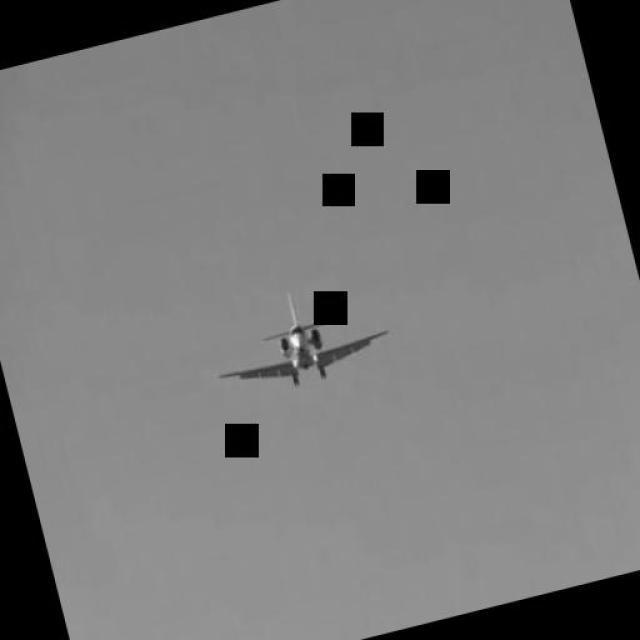aeroplane: (217, 296, 391, 392)
